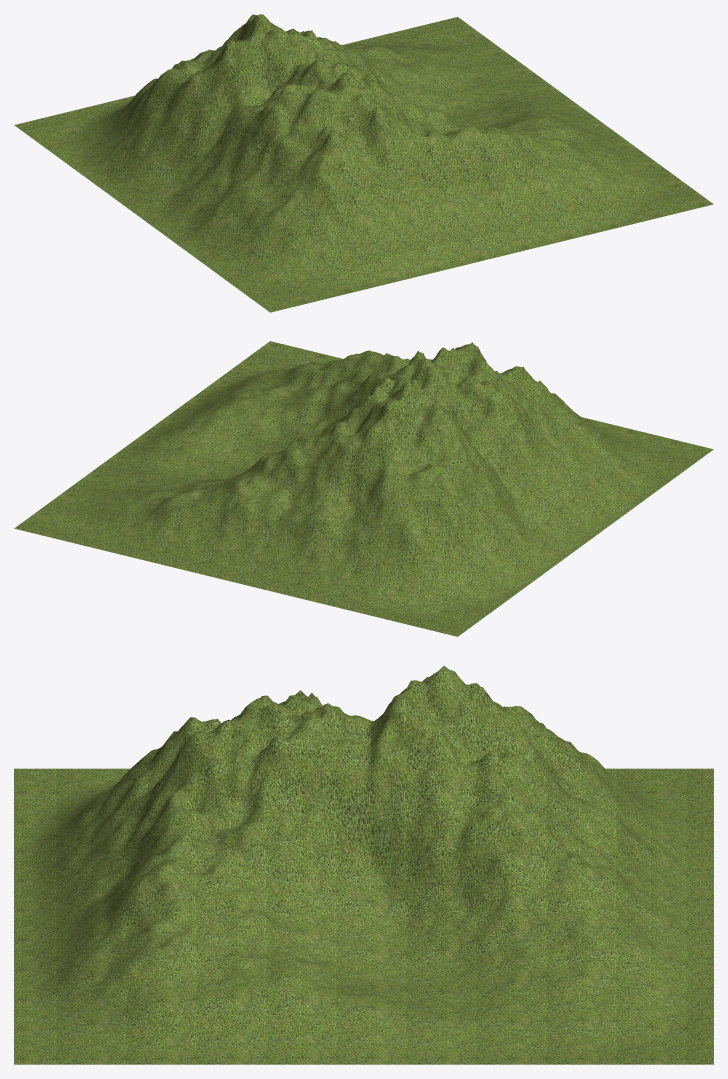
File: test_terrain.gltf
3 views of the same model, one above another, from view 1: azimuth 30°, elevation 25°; view 2: azimuth 150°, elevation 25°; view 3: azimuth 270°, elevation 25° (orthographic). The views are drawn at different scales.
Visible parts, largest first — view 1: Landscape; view 2: Landscape; view 3: Landscape.
Boxes of the visible parts, left/top/right/bottom form: Landscape: left=14, top=14, right=713, bottom=312; Landscape: left=14, top=341, right=713, bottom=636; Landscape: left=14, top=666, right=713, bottom=1064.
Bounding box in the file's own units: 200 × 63.38 × 200.
1 material, 1 textured.
